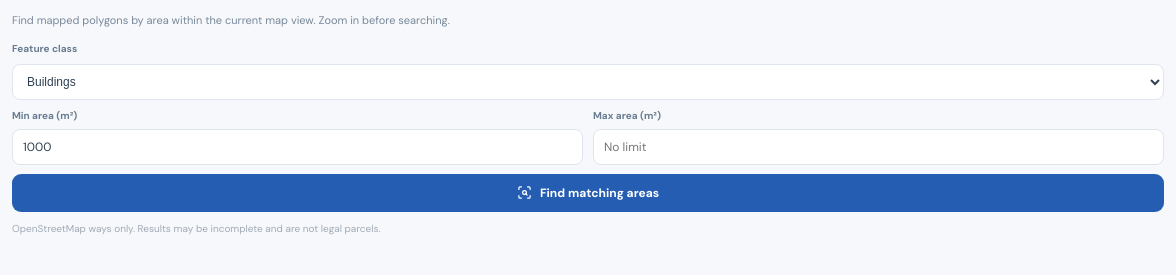
feature discovery › shows provider errors and resets submission state
Clear the number field labelled "Min area (m²)" at [298, 146], box [12, 128, 583, 164]
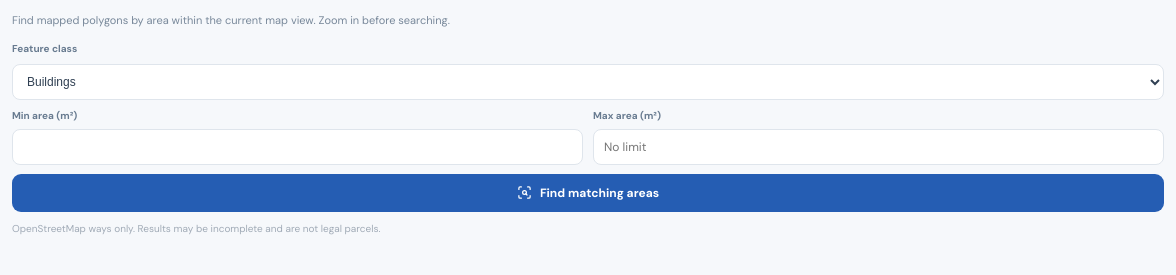
Click the button "Find matching areas" at [588, 192], box [12, 174, 1164, 212]
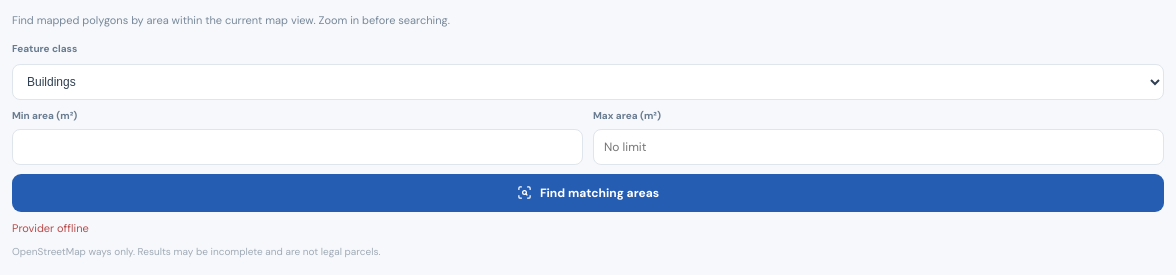
Now the text "Provider offline" is shown, box [12, 220, 89, 234]
Click the button "Find matching areas" at [588, 192], box [12, 174, 1164, 212]
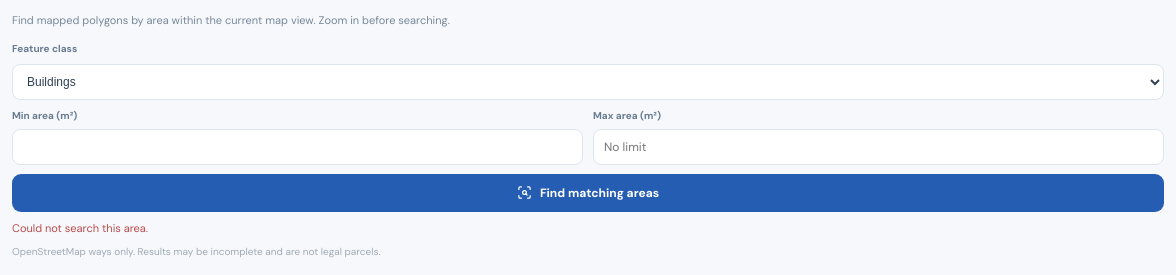
Now the text "Could not search this area." is shown, box [12, 220, 148, 234]
